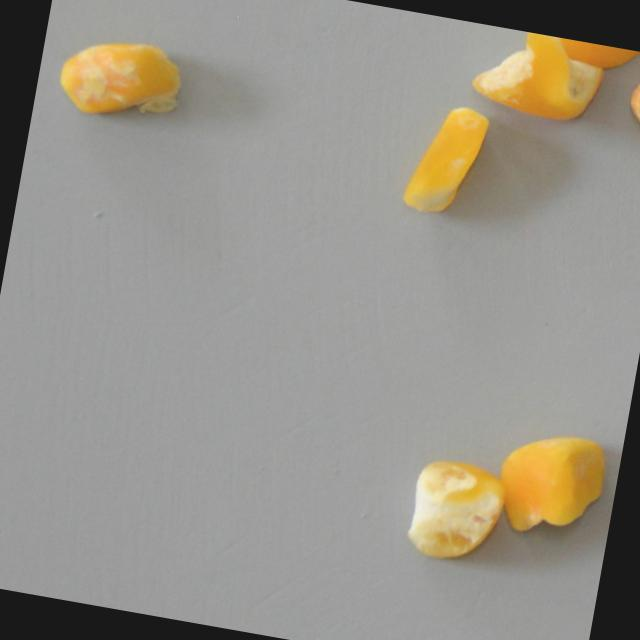dañado: (467, 24, 609, 132), (525, 32, 640, 74), (618, 51, 640, 144)
estandar: (490, 419, 615, 547), (399, 96, 493, 225)
pelicula: (49, 14, 193, 137), (386, 449, 515, 569)
